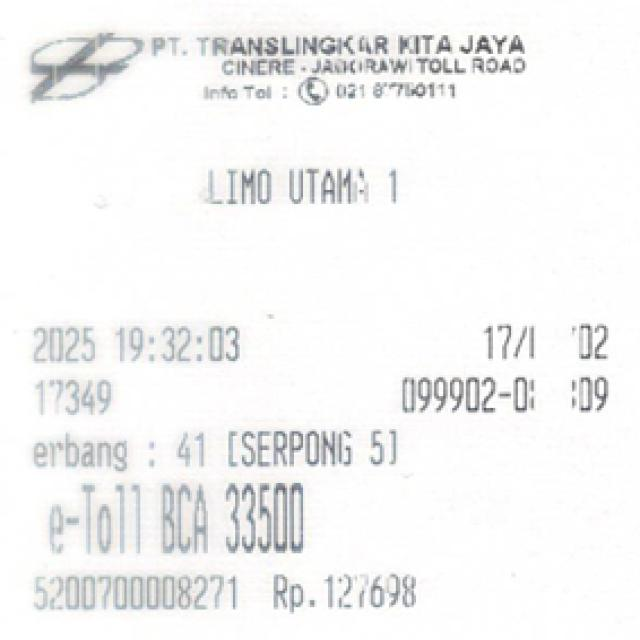date: (20, 312, 271, 368)
store: (140, 27, 538, 78)
total: (214, 475, 338, 556)
